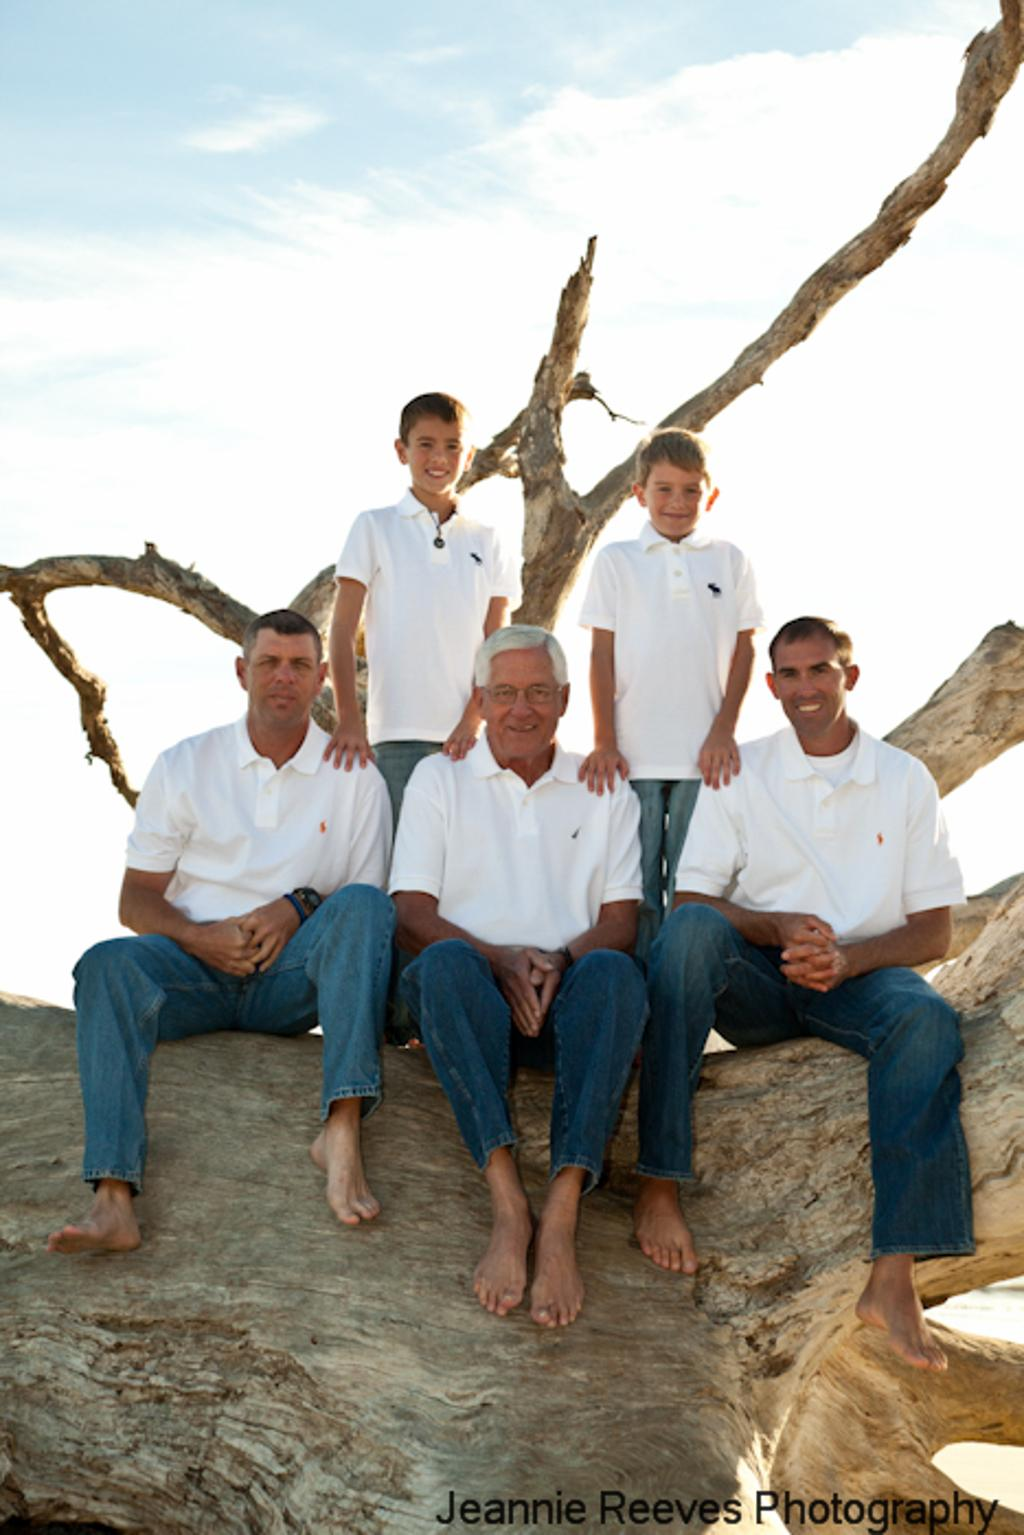face: (246, 620, 324, 734), (485, 644, 560, 761), (764, 638, 851, 734), (395, 410, 464, 494), (647, 449, 704, 539)
